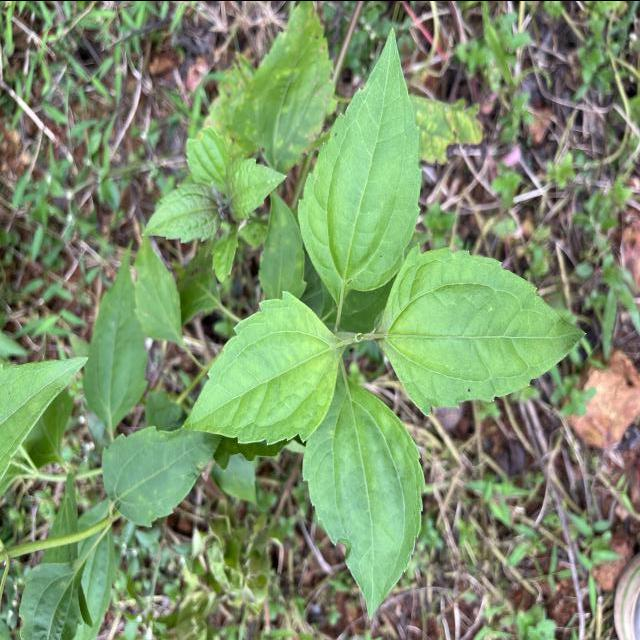Chromolaena odorata: (370, 238, 593, 419), (294, 22, 424, 310), (298, 370, 428, 624), (176, 283, 349, 450)
